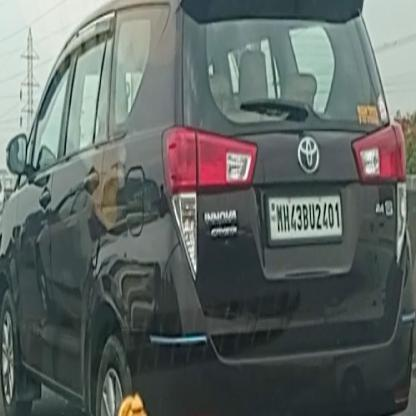license_plate: (266, 192, 343, 240)
